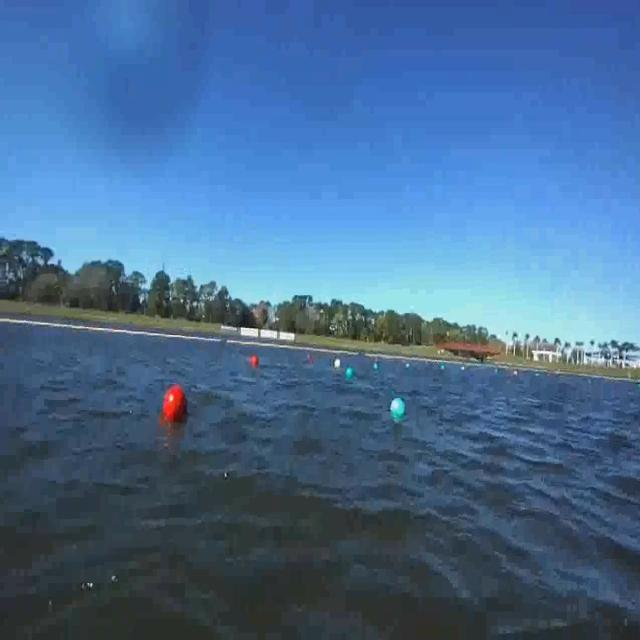green-buoy: (391, 397, 405, 419), (347, 366, 355, 378)
red-buoy: (162, 384, 193, 425), (250, 354, 258, 366)
yellow-buoy: (335, 358, 342, 369)
